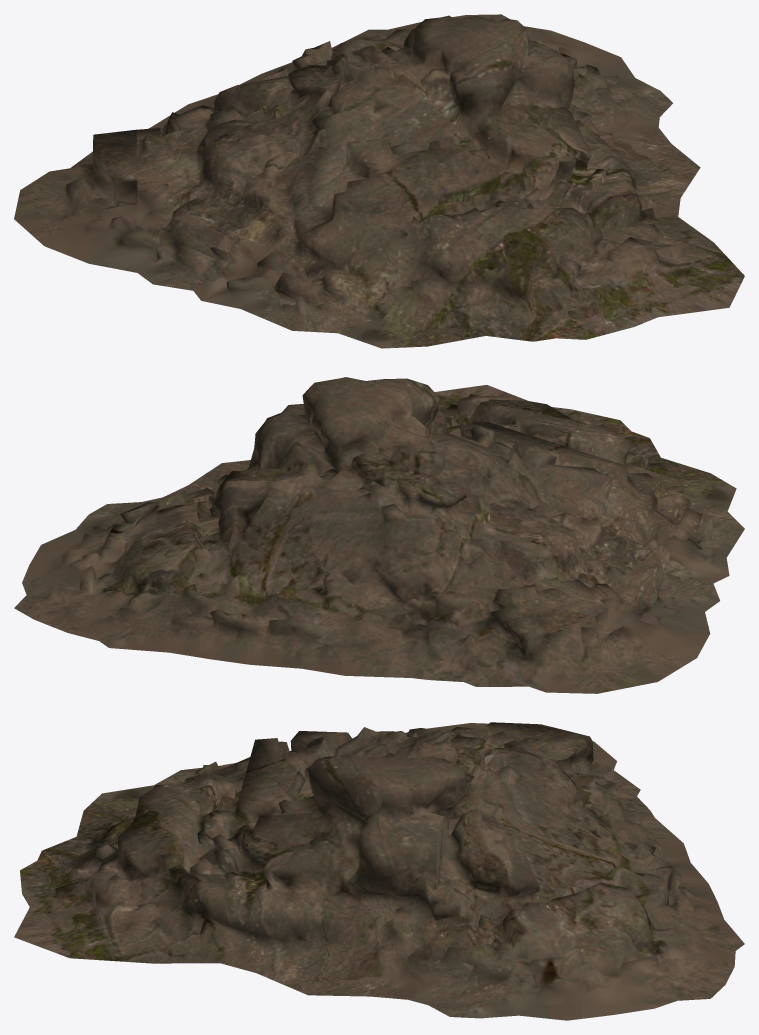
The model's file is Rubbles_02.fbx.
3 renders of one model, top to bottom at view 1: azimuth 30°, elevation 25°; view 2: azimuth 150°, elevation 25°; view 3: azimuth 270°, elevation 25°, orthographic. The views are drawn at different scales.
Parts seen in each view (by area): view 1: Rubble_Big_LOD0:Rubble_Big_LOD0_0; view 2: Rubble_Big_LOD0:Rubble_Big_LOD0_0; view 3: Rubble_Big_LOD0:Rubble_Big_LOD0_0.
Part boxes in pixels (left/top/right/bottom): Rubble_Big_LOD0:Rubble_Big_LOD0_0: left=14, top=14, right=744, bottom=348; Rubble_Big_LOD0:Rubble_Big_LOD0_0: left=14, top=377, right=744, bottom=693; Rubble_Big_LOD0:Rubble_Big_LOD0_0: left=14, top=722, right=744, bottom=1020.
Bounding box in the file's own units: 44.45 × 10.11 × 46.13.
Materials: 1 (1 with a texture image).
